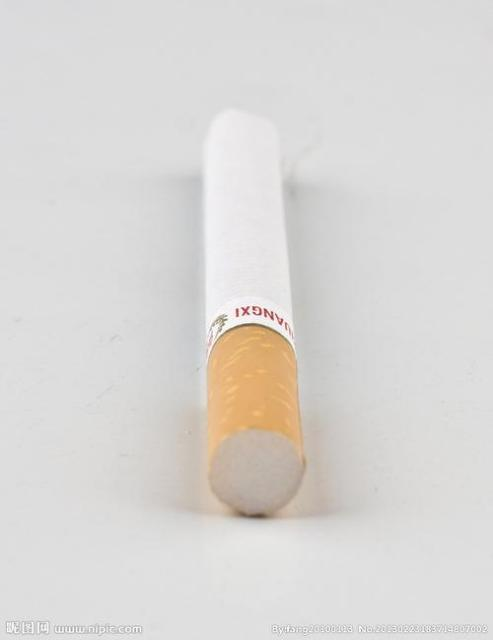Cigarette: (207, 111, 305, 515)
